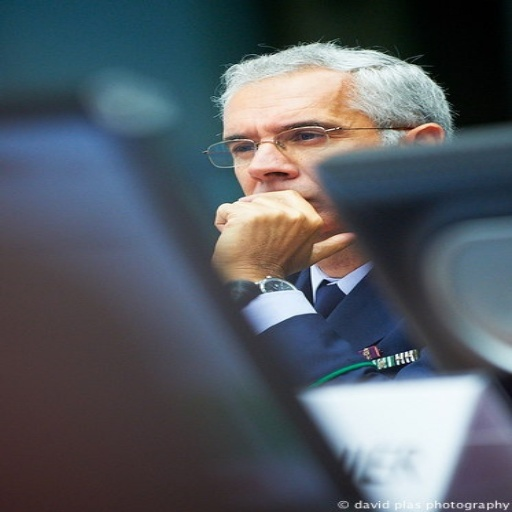hand: (214, 183, 344, 285)
